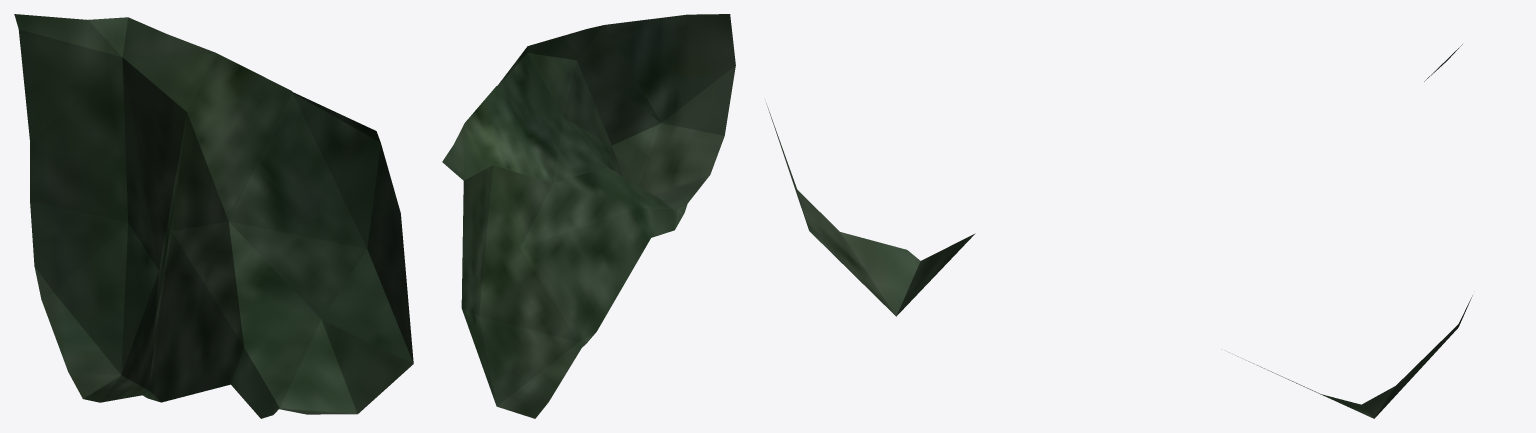
3 renders of one model, left to right at view 1: azimuth 30°, elevation 25°; view 2: azimuth 150°, elevation 25°; view 3: azimuth 270°, elevation 25°, orthographic. The views are drawn at different scales.
Bounding box in the file's own units: 0.7841 × 1.63 × 2.87.
Materials: 1 (1 with a texture image).
